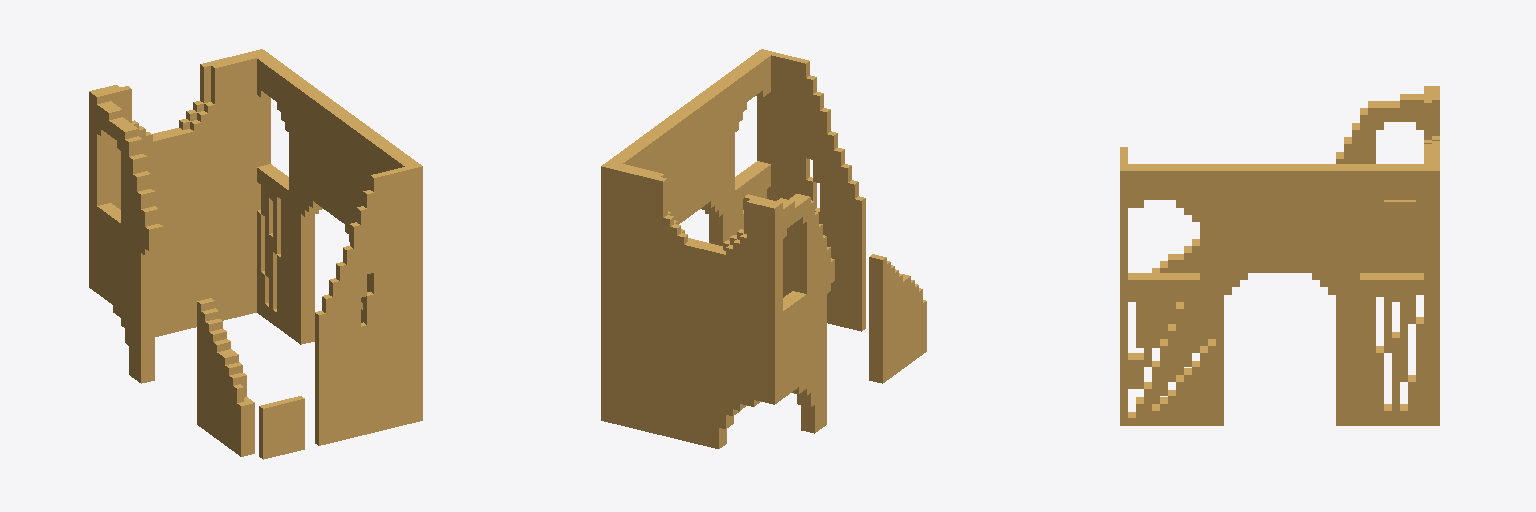
3 renders of one model, left to right at view 1: azimuth 30°, elevation 25°; view 2: azimuth 150°, elevation 25°; view 3: azimuth 270°, elevation 25°, orthographic.
Parts seen in each view (by area): view 1: object 1; view 2: object 1; view 3: object 1.
Part boxes in pixels (x1,y1,x2,y2): object 1: (89, 49, 422, 459); object 1: (601, 49, 926, 448); object 1: (1120, 86, 1439, 425).
Bounding box in the file's own units: 2.5 × 3.5 × 4.
Materials: 1 (1 with a texture image).